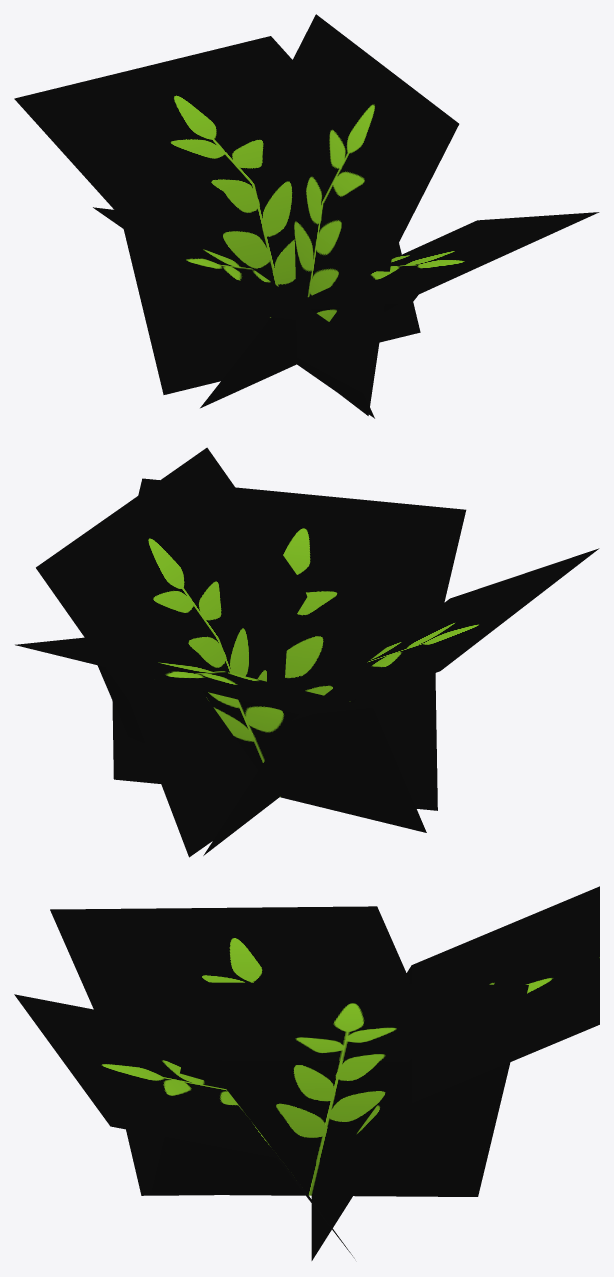
File: Plant_01.fbx
3 views of the same model, one above another, from view 1: azimuth 30°, elevation 25°; view 2: azimuth 150°, elevation 25°; view 3: azimuth 270°, elevation 25° (orthographic). The views are drawn at different scales.
Visible parts, largest first — view 1: Plant_01; view 2: Plant_01; view 3: Plant_01.
Part boxes in pixels (left/top/right/bottom): Plant_01: left=14, top=14, right=599, bottom=418; Plant_01: left=15, top=447, right=599, bottom=857; Plant_01: left=14, top=886, right=599, bottom=1260.
Size of the model in its own units: 0.1934 by 0.1184 by 0.2299.
